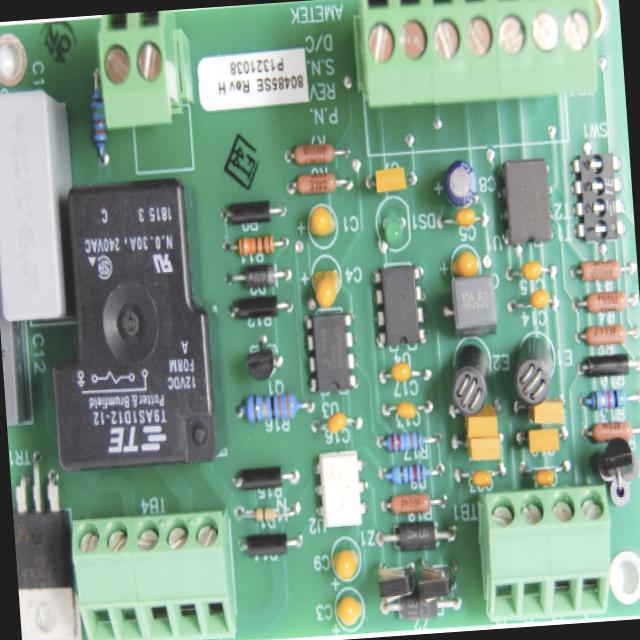Electrolytic capacitor: (438, 152, 482, 210)
IC: (495, 157, 556, 245), (302, 306, 358, 398), (367, 266, 430, 347)
diode: (384, 512, 442, 554), (230, 260, 282, 296), (389, 591, 442, 623)
led: (377, 198, 412, 245)
resistor: (231, 388, 305, 426), (84, 80, 111, 159), (379, 424, 435, 456), (387, 458, 439, 490), (584, 376, 630, 412), (234, 232, 279, 264)
transistor: (588, 438, 638, 486), (242, 339, 286, 386)
